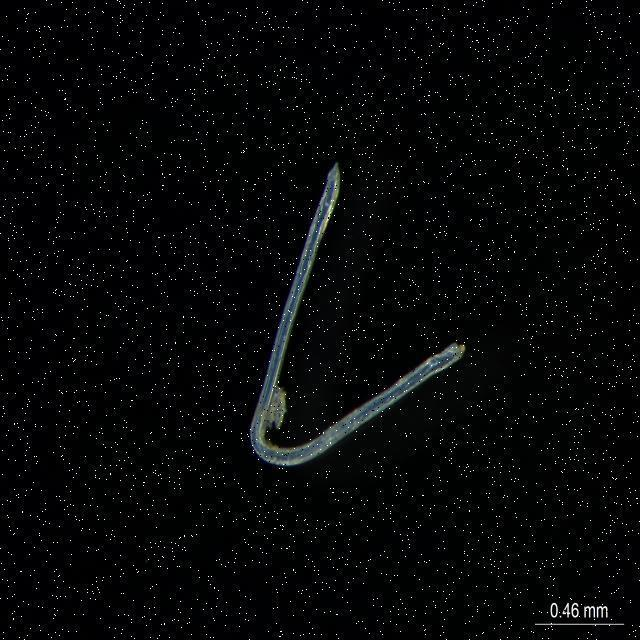Fibre: (248, 156, 468, 468)
